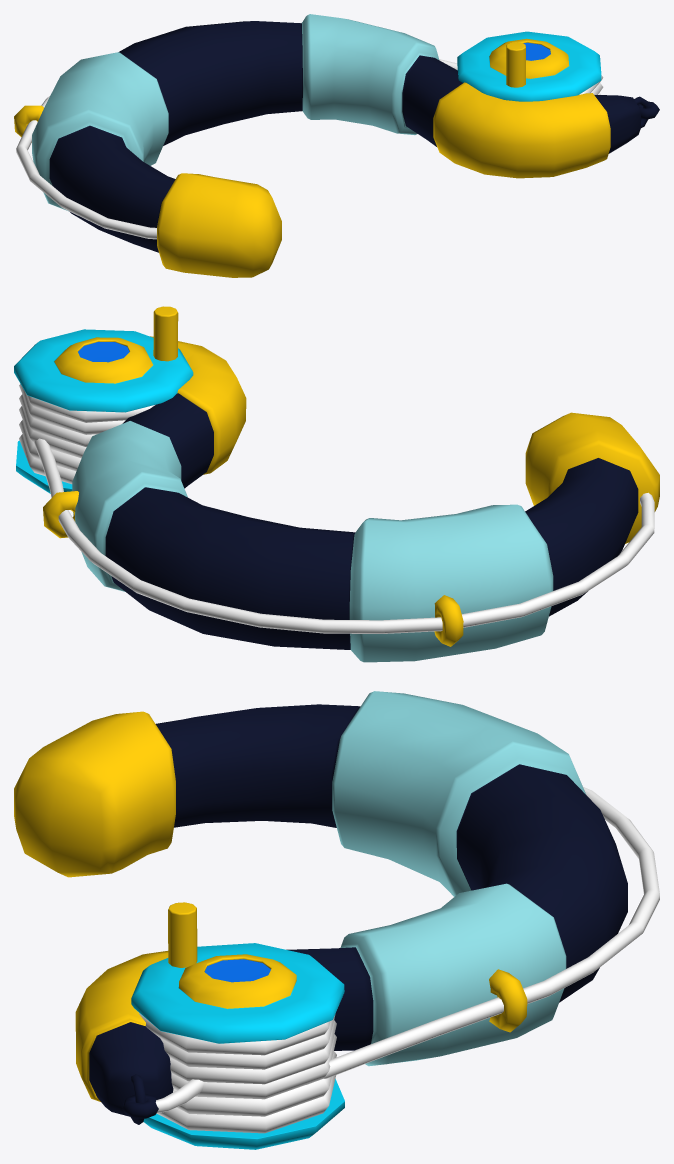
The model's file is Hook.fbx.
3 renders of one model, top to bottom at view 1: azimuth 30°, elevation 25°; view 2: azimuth 150°, elevation 25°; view 3: azimuth 270°, elevation 25°, orthographic. The views are drawn at different scales.
Parts seen in each view (by area): view 1: hook_c_geo, rotatingReel_c_geo, rope_c_geo; view 2: hook_c_geo, rotatingReel_c_geo, rope_c_geo, rotationReelRope_c_geo; view 3: hook_c_geo, rotatingReel_c_geo, rotationReelRope_c_geo, rope_c_geo.
Part boxes in pixels (x1,y1,x2,y2): hook_c_geo: (14, 14, 659, 277); rotatingReel_c_geo: (457, 31, 601, 101); rope_c_geo: (16, 59, 457, 239); hook_c_geo: (43, 336, 659, 662); rotatingReel_c_geo: (14, 306, 193, 493); rope_c_geo: (34, 438, 654, 633); rotationReelRope_c_geo: (19, 384, 154, 484); hook_c_geo: (14, 691, 627, 1124); rotatingReel_c_geo: (131, 902, 344, 1149); rotationReelRope_c_geo: (139, 1013, 336, 1133); rope_c_geo: (155, 787, 659, 1112).
Size of the model in its own units: 59.85 by 14.5 by 42.64.
